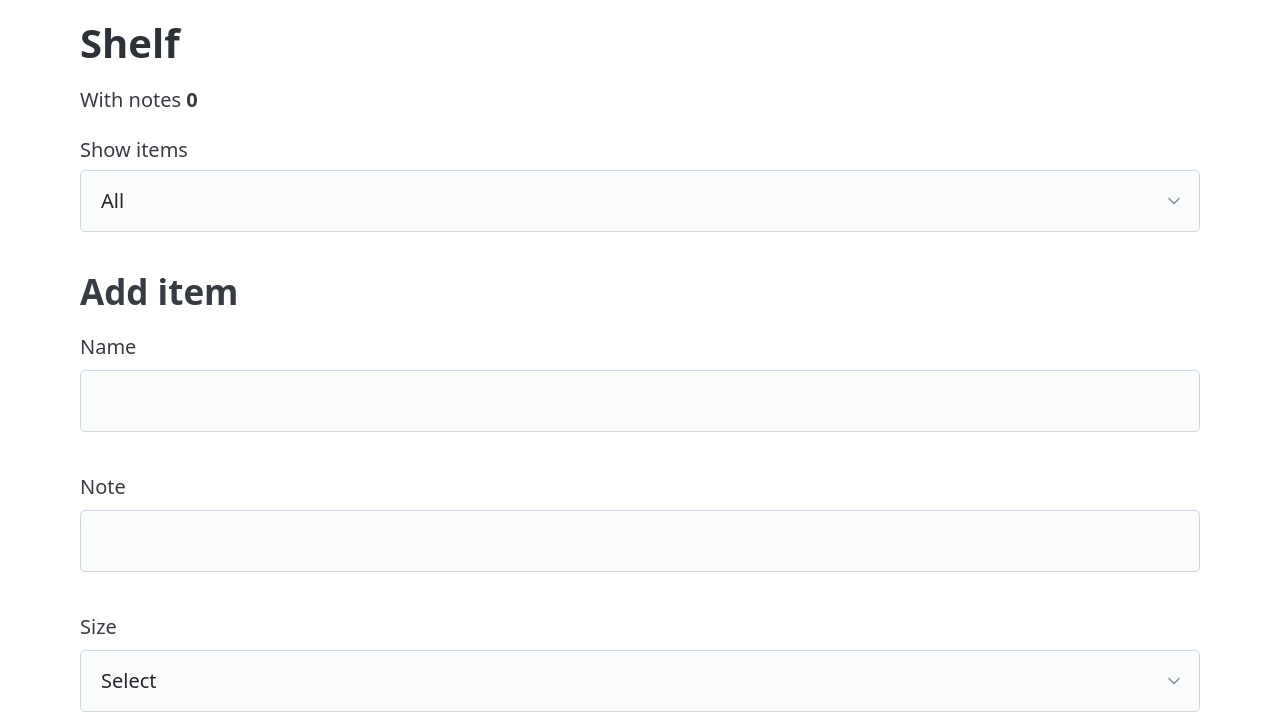
Test: journey helpers › adds a record and finds its row
Type "Lamp" into the field labelled "Name". click: x=640, y=401
box: [80,370,1200,432]
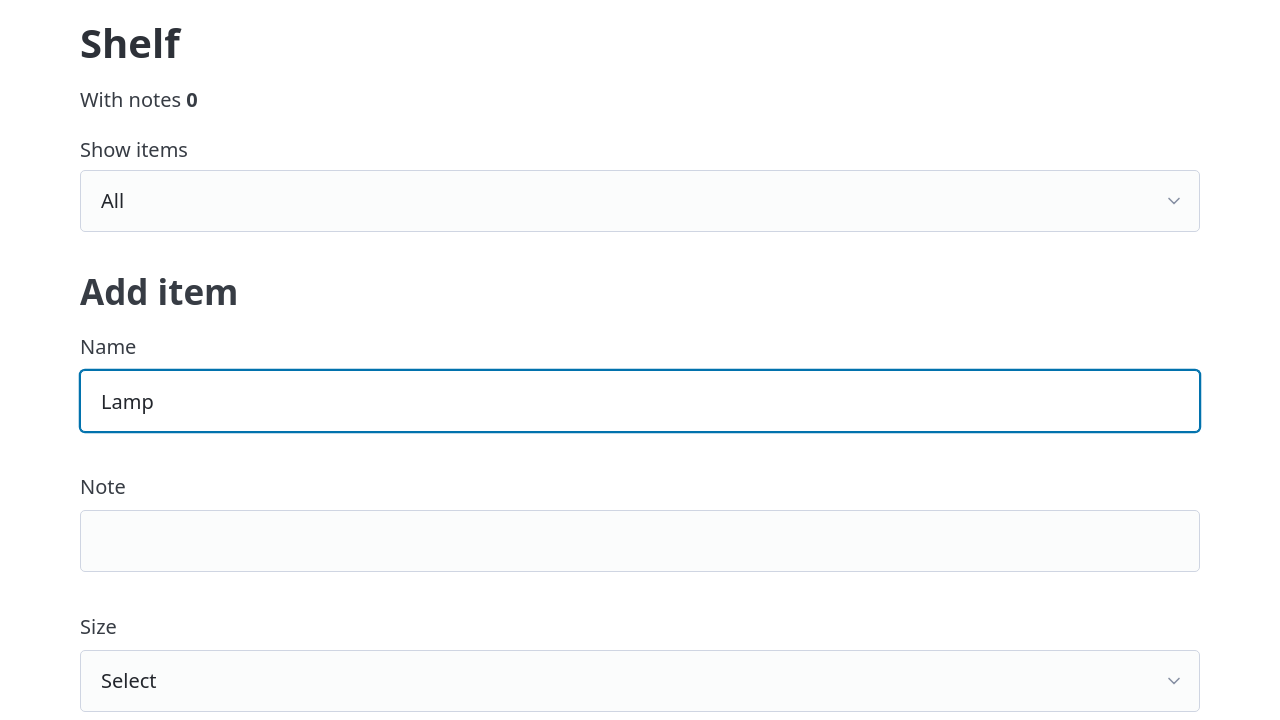
Type "spare" into the field labelled "Note". click: x=640, y=541
box: [80,510,1200,572]
(page scrolled)
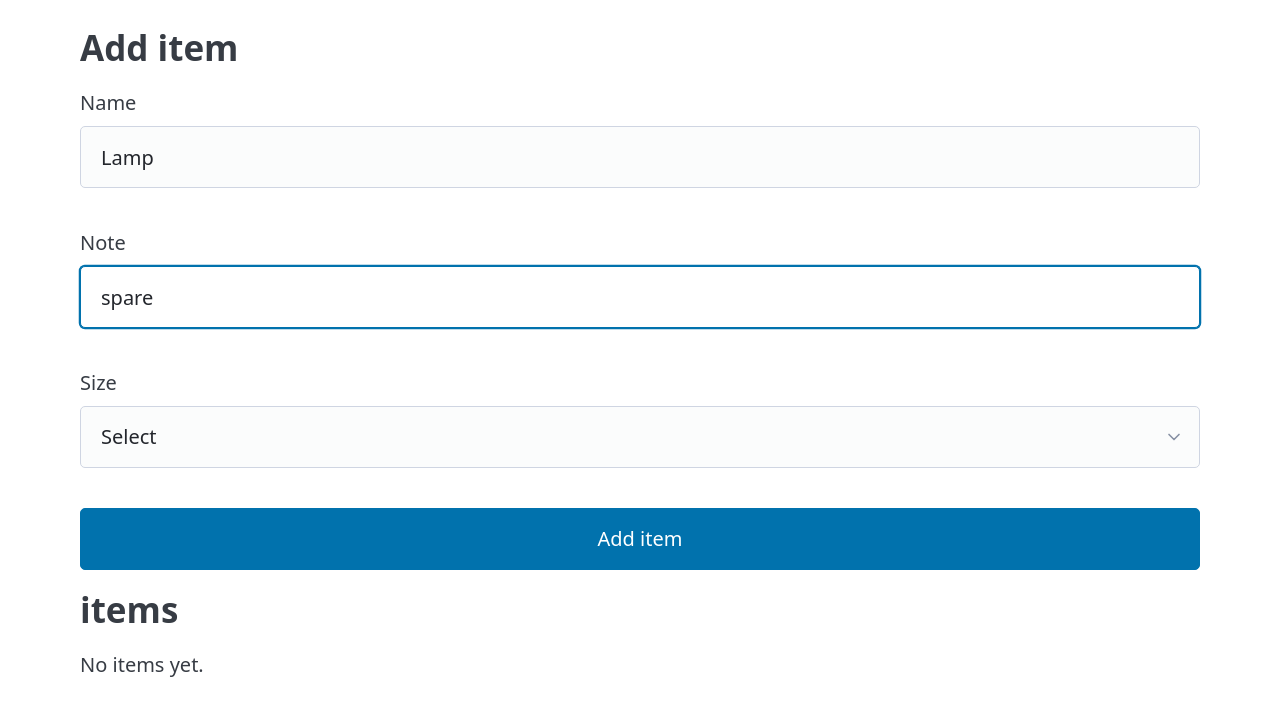
Click the button "Add item". click: x=640, y=539
box: [80,508,1200,570]
(page scrolled)
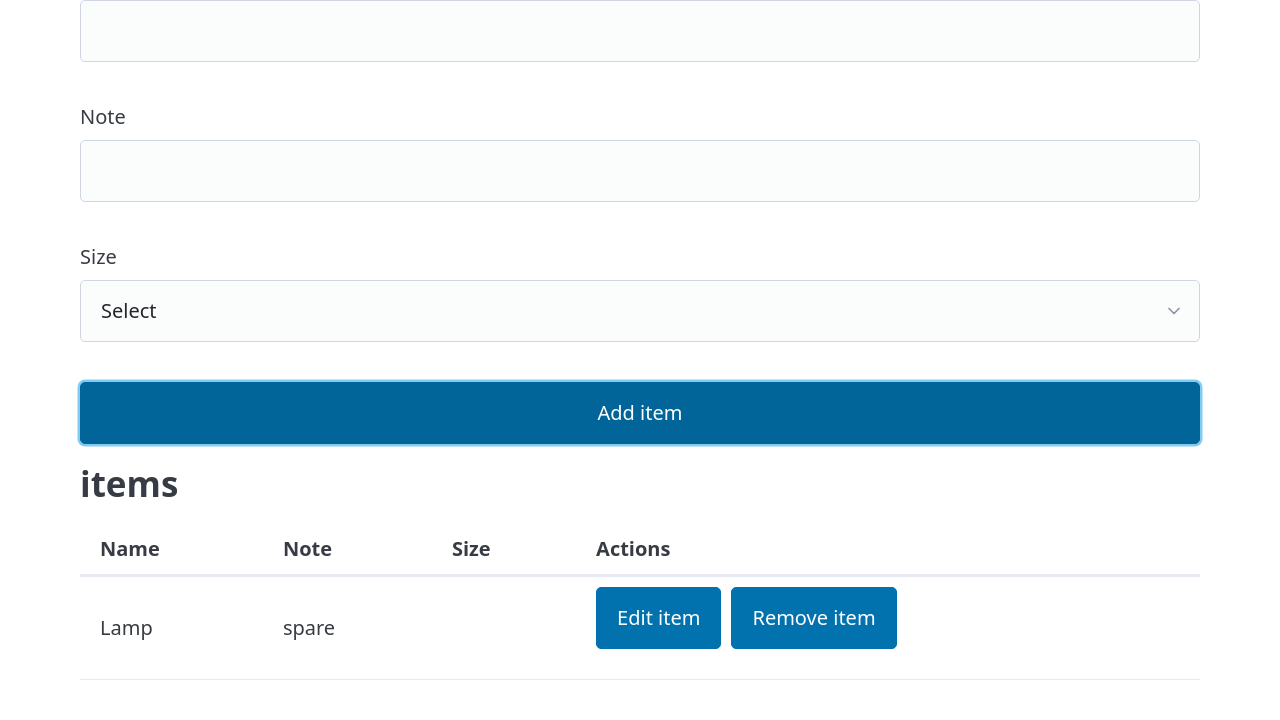
Expected: the row "Lamp spare Edit item Remove item" is shown, [80,576,1200,680]
